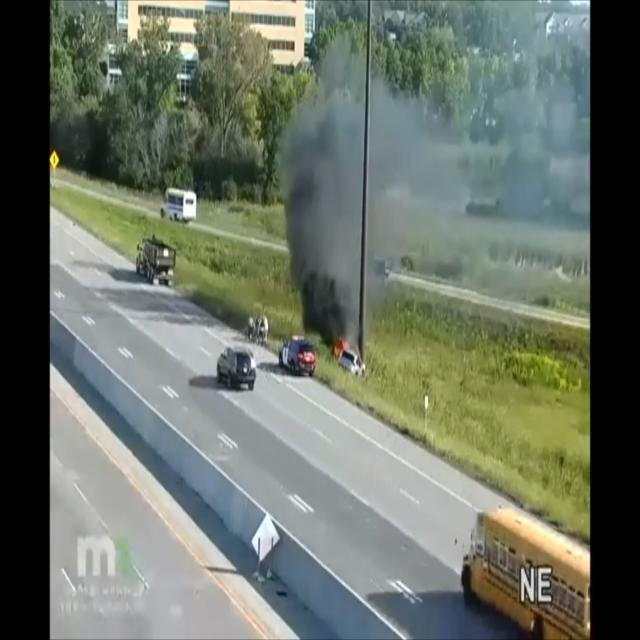fire: (332, 330, 348, 366)
